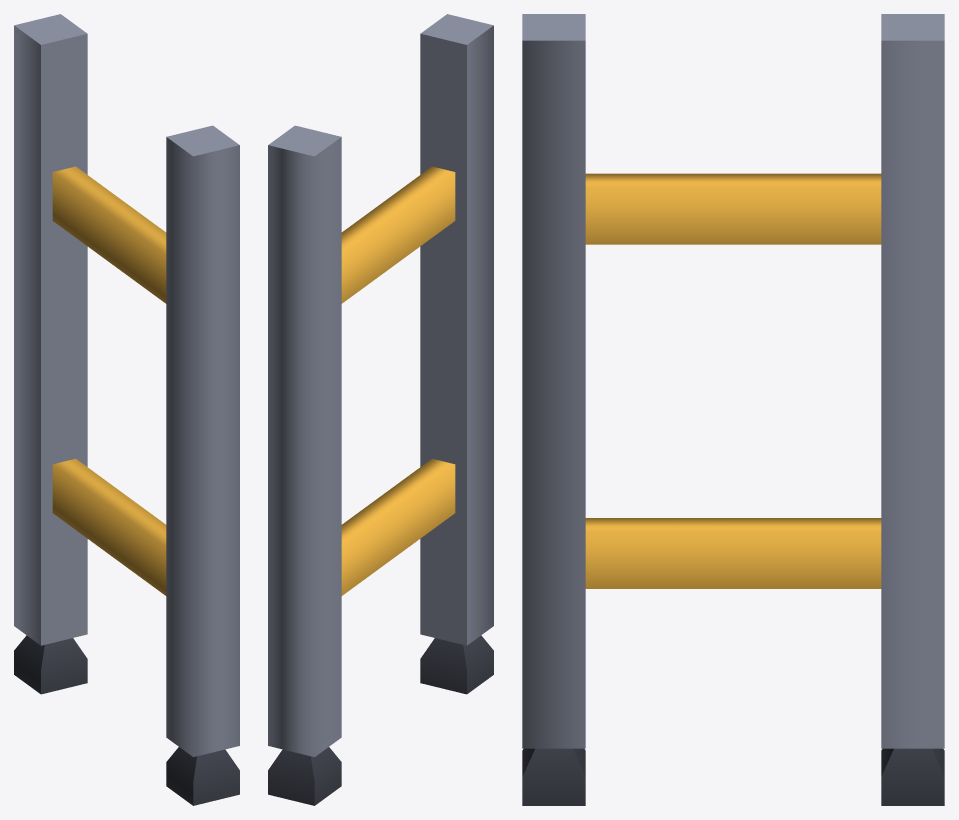
File: StructureYellowTall-transformed.glb
3 renders of one model, left to right at view 1: azimuth 30°, elevation 25°; view 2: azimuth 150°, elevation 25°; view 3: azimuth 270°, elevation 25°, orthographic. The views are drawn at different scales.
Visible parts, largest first — view 1: structure-yellow-tall; view 2: structure-yellow-tall; view 3: structure-yellow-tall.
Boxes of the visible parts, x1,y1,x2,y2 form: structure-yellow-tall: (14, 14, 239, 805); structure-yellow-tall: (268, 14, 493, 805); structure-yellow-tall: (522, 14, 944, 805).
Bounding box in the file's own units: 0.15 × 2 × 1.
